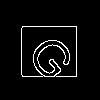G: (25, 25, 85, 85)
